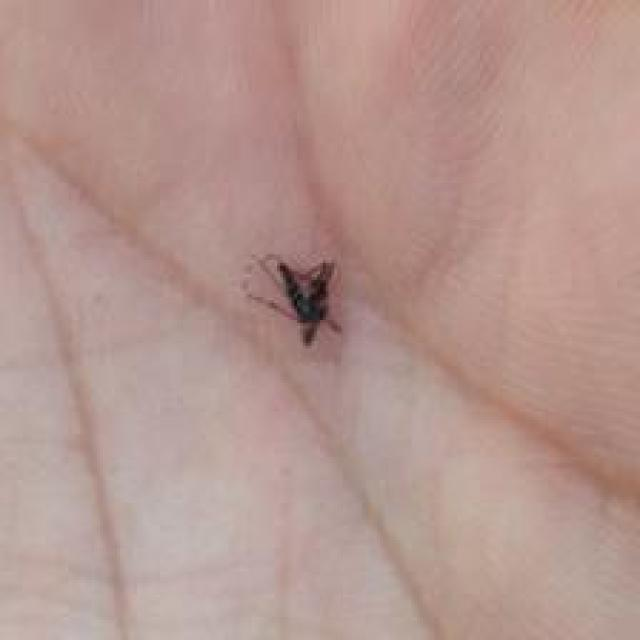Aedes albopictus: (242, 250, 344, 347)
